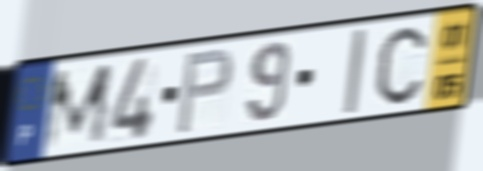4: (108, 54, 156, 144)
9: (244, 39, 293, 126)
C: (374, 23, 429, 108)
I: (341, 25, 369, 118)
M: (40, 59, 115, 154)
P: (173, 45, 235, 138)
